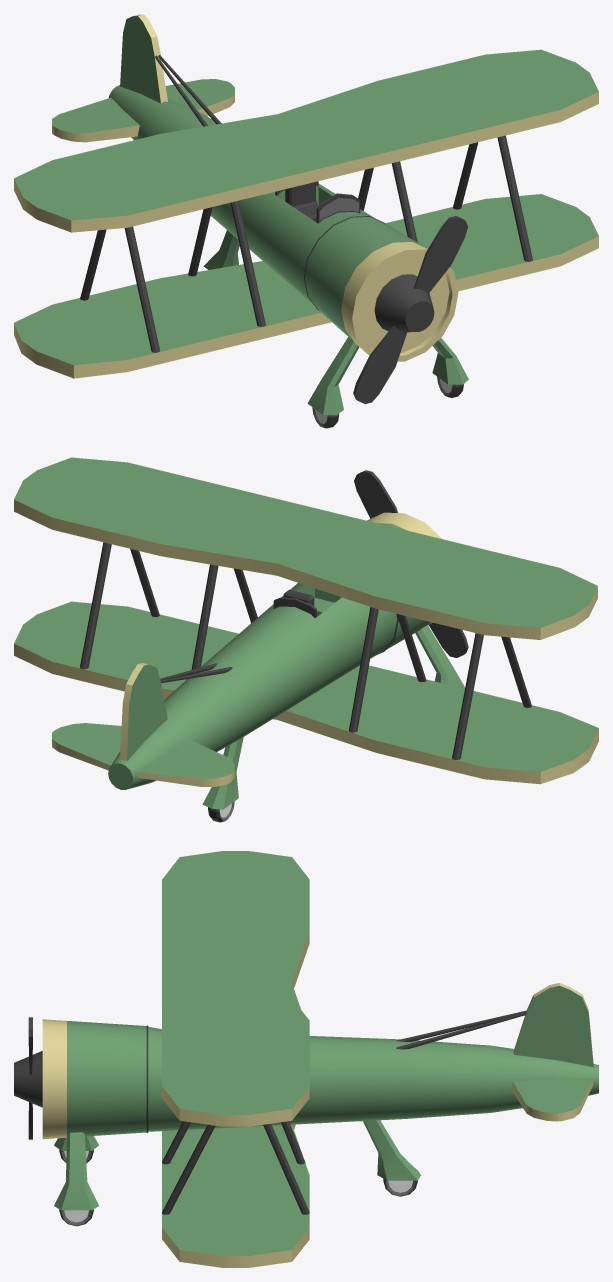
The model's file is Air_Plane_1.glb.
3 renders of one model, top to bottom at view 1: azimuth 30°, elevation 25°; view 2: azimuth 150°, elevation 25°; view 3: azimuth 270°, elevation 25°, orthographic. The views are drawn at different scales.
Parts seen in each view (by area): view 1: Air Plane_1, Air Plane_1 Fan; view 2: Air Plane_1, Air Plane_1 Fan; view 3: Air Plane_1, Air Plane_1 Fan.
Part boxes in pixels (left/top/right/bottom): Air Plane_1: left=14, top=14, right=598, bottom=415; Air Plane_1 Fan: left=353, top=216, right=467, bottom=403; Air Plane_1: left=14, top=457, right=598, bottom=809; Air Plane_1 Fan: left=354, top=470, right=468, bottom=657; Air Plane_1: left=42, top=851, right=598, bottom=1267; Air Plane_1 Fan: left=14, top=1017, right=42, bottom=1139.
Size of the model in its own units: 9.37 by 3.51 by 8.78.
Materials: 1 (1 with a texture image).
